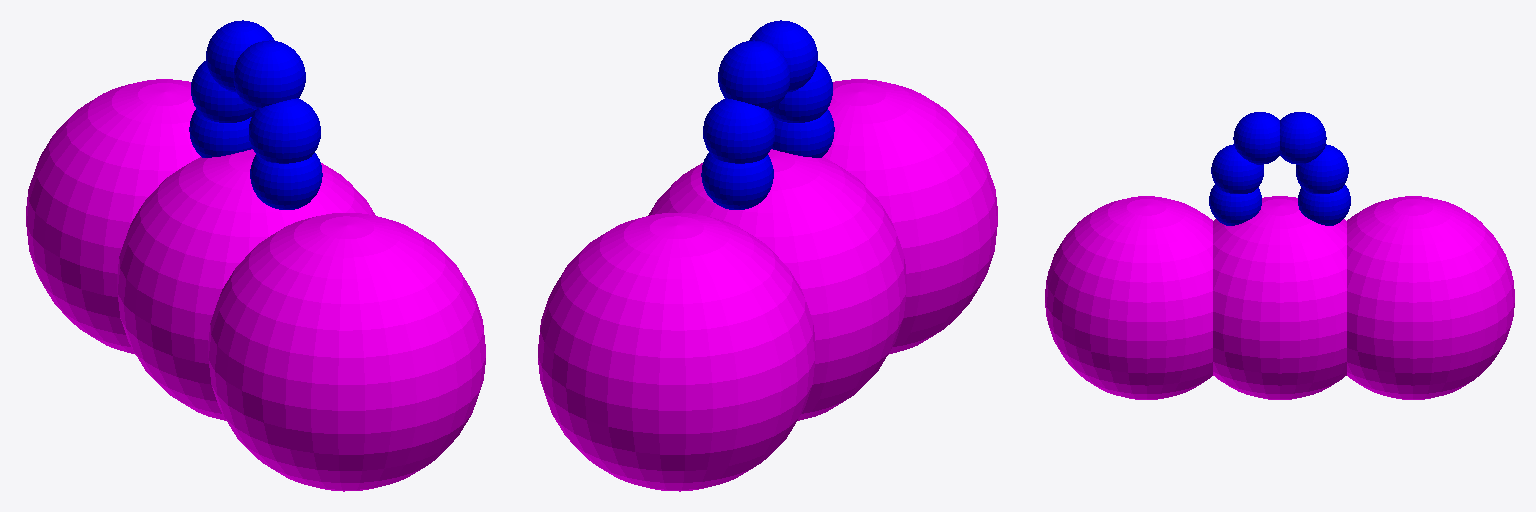
robot.urdf — panda_gripper:
<?xml version="1.0"?>
<robot name="panda_gripper">
  <link name="base_link_x"/>
  <joint name="dummy_x_translation_joint" type="prismatic">
    <parent link="base_link_x"/>
    <child link="base_link_y"/>
    <origin rpy="0 0 0" xyz="0 0 0"/>
    <axis xyz="1 0 0"/>
    <limit effort="300" lower="-10" upper="10" velocity="2.1750"/>
  </joint>

  <link name="base_link_y"/>

  <joint name="dummy_y_translation_joint" type="prismatic">
    <parent link="base_link_y"/>
    <child link="base_link_z"/>
    <origin rpy="0 0 0" xyz="0 0 0"/>
    <axis xyz="0 1 0"/>
    <limit effort="300" lower="-10" upper="10" velocity="2.1750"/>
  </joint>

  <link name="base_link_z"/>

  <joint name="dummy_z_translation_joint" type="prismatic">
    <parent link="base_link_z"/>
    <child link="base_link_roll"/>
    <origin rpy="0 0 0" xyz="0 0 0"/>
    <axis xyz="0 0 1"/>
    <limit effort="300" lower="-10" upper="10" velocity="2.1750"/>
  </joint>

  <link name="base_link_roll"/>

  <joint name="dummy_x_rotation_joint" type="revolute">
    <parent link="base_link_roll"/>
    <child link="base_link_pitch"/>
    <origin rpy="0 0 0" xyz="0 0 0"/>
    <axis xyz="1 0 0"/>
    <limit effort="100.95" velocity="108.48" lower="-6.283185" upper="6.283185"/>
  </joint>

  <link name="base_link_pitch"/>

  <joint name="dummy_y_rotation_joint" type="revolute">
    <parent link="base_link_pitch"/>
    <child link="base_link_yaw"/>
    <origin rpy="0 0 0" xyz="0 0 0"/>
    <axis xyz="0 1 0"/>
    <limit effort="100.95" velocity="108.48" lower="-6.283185" upper="6.283185"/>
  </joint>

  <link name="base_link_yaw"/>

  <joint name="dummy_z_rotation_joint" type="revolute">
    <parent link="base_link_yaw"/>
    <child link="panda_hand"/>
    <origin rpy="0 0 0" xyz="0 0 0"/>
    <axis xyz="0 0 1"/>
    <limit effort="100.95" velocity="108.48" lower="-6.283185" upper="6.283185"/>
  </joint>

  <link name="panda_hand">
    <visual>
      <geometry>
        <mesh filename="meshes/visual/hand.glb"/>
      </geometry>
    </visual>
    <collision>
      <origin rpy="1.570795 0 0" xyz="0 0 0.02617"/>
      <geometry>
        <box size="0.036 0.08 0.2"/>
      </geometry>
    </collision>
    <collision>
      <origin rpy="0 0 0" xyz="0 0 0.0003"/>
      <geometry>
        <cylinder radius="0.03" length="0.0077"/>
      </geometry>
    </collision>
    <inertial>
      <origin rpy="0 0 0" xyz="-0.01 0 0.03"/>
      <mass value="0.73"/>
      <inertia ixx="0.001" ixy="0" ixz="0" iyy="0.0025" iyz="0" izz="0.0017"/>
    </inertial>
  </link>
  <link name="panda_hand_tcp"/>
  <joint name="panda_hand_tcp_joint" type="fixed">
    <origin rpy="0 0 0" xyz="0 0 0.1034"/>
    <parent link="panda_hand"/>
    <child link="panda_hand_tcp"/>
  </joint>

  <!-- panda_hand balls -->
  <link name="panda_hand_collision_ball_0">
    <visual>
      <geometry>
        <sphere radius="0.0460"/>
      </geometry>
      <material name="pure">
      <color rgba="1.0 0.0 1.0 1.0"/>
    </material>
    </visual>
    <collision>
      <geometry>
      <sphere radius="0.0460"/>
      </geometry>
    </collision>
  </link>
  <joint name="panda_hand_collision_ball_0_joint" type="fixed">
    <parent link="panda_hand"/>
    <child link="panda_hand_collision_ball_0"/>
    <origin rpy="0 0 0" xyz="0.0 0.0 0.024"/>
  </joint>


    <link name="panda_hand_collision_ball_1">
    <visual>
      <geometry>
        <sphere radius="0.0460"/>
      </geometry>
      <material name="pure">
      <color rgba="1.0 0.0 1.0 1.0"/>
    </material>
    </visual>
    <collision>
      <geometry>
      <sphere radius="0.0460"/>
      </geometry>
    </collision>
  </link>
  <joint name="panda_hand_collision_ball_1_joint" type="fixed">
    <parent link="panda_hand"/>
    <child link="panda_hand_collision_ball_1"/>
    <origin rpy="0 0 0" xyz="0.0 -0.06 0.024"/>
  </joint>


    <link name="panda_hand_collision_ball_2">
    <visual>
      <geometry>
        <sphere radius="0.0460"/>
      </geometry>
      <material name="pure">
      <color rgba="1.0 0.0 1.0 1.0"/>
    </material>
    </visual>
    <collision>
      <geometry>
      <sphere radius="0.0460"/>
      </geometry>
    </collision>
  </link>
  <joint name="panda_hand_collision_ball_2_joint" type="fixed">
    <parent link="panda_hand"/>
    <child link="panda_hand_collision_ball_2"/>
    <origin rpy="0 0 0" xyz="0.0 0.06 0.024"/>
  </joint>
  <!--  -->



  <link name="panda_leftfinger">
    <visual>
      <geometry>
        <mesh filename="meshes/visual/finger.glb"/>
      </geometry>
    </visual>
    <collision>
      <origin rpy="0 0 0" xyz="0 18.5e-3 11e-3"/>
      <geometry>
        <box size="22e-3 15e-3 20e-3"/>
      </geometry>
    </collision>
    <collision>
      <origin rpy="0 0 0" xyz="0 6.8e-3 2.2e-3"/>
      <geometry>
        <box size="22e-3 8.8e-3 3.8e-3"/>
      </geometry>
    </collision>
    <collision>
      <origin rpy="0.5235987755982988 0 0" xyz="0 15.9e-3 28.35e-3"/>
      <geometry>
        <box size="17.5e-3 7e-3 23.5e-3"/>
      </geometry>
    </collision>
    <collision>
      <origin rpy="0 0 0" xyz="0 7.58e-3 45.25e-3"/>
      <geometry>
        <box size="17.5e-3 15.2e-3 18.5e-3"/>
      </geometry>
    </collision>
    <inertial>
      <origin rpy="0 0 0" xyz="0 0 0"/>
      <mass value="0.015"/>
      <inertia ixx="2.3749999999999997e-06" ixy="0" ixz="0" iyy="2.3749999999999997e-06"
               iyz="0" izz="7.5e-07"/>
    </inertial>
  </link>



  <!-- panda_leftfinger balls -->
  <link name="panda_leftfinger_collision_ball_0">
    <visual>
      <geometry>
        <sphere radius="0.0120"/>
      </geometry>
      <material name="blue">
      <color rgba="0.0 0.0 1.0 1.0"/>
    </material>
    </visual>
    <collision>
      <geometry>
      <sphere radius="0.0120"/>
      </geometry>
    </collision>
  </link>
  <joint name="panda_leftfinger_collision_ball_0_joint" type="fixed">
    <parent link="panda_leftfinger"/>
    <child link="panda_leftfinger_collision_ball_0"/>
    <origin rpy="0 0 0" xyz="0.0 0.02 0.014"/>
  </joint>


   <link name="panda_leftfinger_collision_ball_1">
    <visual>
      <geometry>
        <sphere radius="0.0120"/>
      </geometry>
      <material name="blue">
      <color rgba="0.0 0.0 1.0 1.0"/>
    </material>
    </visual>
    <collision>
      <geometry>
      <sphere radius="0.0120"/>
      </geometry>
    </collision>
  </link>
  <joint name="panda_leftfinger_collision_ball_1_joint" type="fixed">
    <parent link="panda_leftfinger"/>
    <child link="panda_leftfinger_collision_ball_1"/>
    <origin rpy="0 0 0" xyz="0.0 0.019 0.029"/>
  </joint>

  <link name="panda_leftfinger_collision_ball_2">
    <visual>
      <geometry>
        <sphere radius="0.0120"/>
      </geometry>
      <material name="blue">
      <color rgba="0.0 0.0 1.0 1.0"/>
    </material>
    </visual>
    <collision>
      <geometry>
      <sphere radius="0.0120"/>
      </geometry>
    </collision>
  </link>
  <joint name="panda_leftfinger_collision_ball_2_joint" type="fixed">
    <parent link="panda_leftfinger"/>
    <child link="panda_leftfinger_collision_ball_2"/>
    <origin rpy="0 0 0" xyz="0.0 0.009 0.045"/>
  </joint>
  <!--  -->

  <link name="panda_rightfinger">
    <visual>
      <origin rpy="0 0 3.141592653589793" xyz="0 0 0"/>
      <geometry>
        <mesh filename="meshes/visual/finger.glb"/>
      </geometry>
    </visual>
    <collision>
      <origin rpy="0 0 0" xyz="0 -18.5e-3 11e-3"/>
      <geometry>
        <box size="22e-3 15e-3 20e-3"/>
      </geometry>
    </collision>
    <collision>
      <origin rpy="0 0 0" xyz="0 -6.8e-3 2.2e-3"/>
      <geometry>
        <box size="22e-3 8.8e-3 3.8e-3"/>
      </geometry>
    </collision>
    <collision>
      <origin rpy="-0.5235987755982988 0 0" xyz="0 -15.9e-3 28.35e-3"/>
      <geometry>
        <box size="17.5e-3 7e-3 23.5e-3"/>
      </geometry>
    </collision>
    <collision>
      <origin rpy="0 0 0" xyz="0 -7.58e-3 45.25e-3"/>
      <geometry>
        <box size="17.5e-3 15.2e-3 18.5e-3"/>
      </geometry>
    </collision>
    <inertial>
      <origin rpy="0 0 0" xyz="0 0 0"/>
      <mass value="0.015"/>
      <inertia ixx="2.3749999999999997e-06" ixy="0" ixz="0" iyy="2.3749999999999997e-06"
               iyz="0" izz="7.5e-07"/>
    </inertial>
  </link>



  <!-- panda_rightfinger balls -->
  <link name="panda_rightfinger_collision_ball_0">
    <visual>
      <geometry>
        <sphere radius="0.0120"/>
      </geometry>
      <material name="blue">
      <color rgba="0.0 0.0 1.0 1.0"/>
    </material>
    </visual>
    <collision>
      <geometry>
      <sphere radius="0.0120"/>
      </geometry>
    </collision>
  </link>
  <joint name="panda_rightfinger_collision_ball_0_joint" type="fixed">
    <parent link="panda_rightfinger"/>
    <child link="panda_rightfinger_collision_ball_0"/>
    <origin rpy="0 0 0" xyz="0.0 -0.02 0.014"/>
  </joint>


   <link name="panda_rightfinger_collision_ball_1">
    <visual>
      <geometry>
        <sphere radius="0.0120"/>
      </geometry>
      <material name="blue">
      <color rgba="0.0 0.0 1.0 1.0"/>
    </material>
    </visual>
    <collision>
      <geometry>
      <sphere radius="0.0120"/>
      </geometry>
    </collision>
  </link>
  <joint name="panda_rightfinger_collision_ball_1_joint" type="fixed">
    <parent link="panda_rightfinger"/>
    <child link="panda_rightfinger_collision_ball_1"/>
    <origin rpy="0 0 0" xyz="0.0 -0.019 0.029"/>
  </joint>

  <link name="panda_rightfinger_collision_ball_2">
    <visual>
      <geometry>
        <sphere radius="0.0120"/>
      </geometry>
      <material name="blue">
      <color rgba="0.0 0.0 1.0 1.0"/>
    </material>
    </visual>
    <collision>
      <geometry>
      <sphere radius="0.0120"/>
      </geometry>
    </collision>
  </link>
  <joint name="panda_rightfinger_collision_ball_2_joint" type="fixed">
    <parent link="panda_rightfinger"/>
    <child link="panda_rightfinger_collision_ball_2"/>
    <origin rpy="0 0 0" xyz="0.0 -0.009 0.045"/>
  </joint>
  <!--  -->



  <joint name="panda_finger_joint1" type="prismatic">
    <parent link="panda_hand"/>
    <child link="panda_leftfinger"/>
    <origin rpy="0 0 0" xyz="0 0 0.0584"/>
    <axis xyz="0 1 0"/>
    <limit effort="100" lower="0.0" upper="0.04" velocity="0.2"/>
    <dynamics damping="0.3"/>
  </joint>
  <joint name="panda_finger_joint2" type="prismatic">
    <parent link="panda_hand"/>
    <child link="panda_rightfinger"/>
    <origin rpy="0 0 0" xyz="0 0 0.0584"/>
    <axis xyz="0 -1 0"/>
    <limit effort="100" lower="0.0" upper="0.04" velocity="0.2"/>
    <mimic joint="panda_finger_joint1" multiplier="1" offset="0"/>
    <dynamics damping="0.3"/>
  </joint>
</robot>

--- What the picture shows (computed from the rendered views, not written in the file) ---
3 views of the same robot in one strip: view 1: azimuth 30°, elevation 25°; view 2: azimuth 150°, elevation 25°; view 3: azimuth 270°, elevation 25° (orthographic).
Robot: panda_gripper — 19 links, 18 joints (3 revolute, 5 prismatic, 10 fixed); root link base_link_x; default pose: all joints at 0.
Links seen in each view (by area): view 1: panda_hand_collision_ball_1, panda_hand_collision_ball_0, panda_hand_collision_ball_2, panda_rightfinger_collision_ball_2, panda_rightfinger_collision_ball_1, panda_rightfinger_collision_ball_0, panda_leftfinger_collision_ball_2, panda_leftfinger_collision_ball_1, panda_leftfinger_collision_ball_0; view 2: panda_hand_collision_ball_2, panda_hand_collision_ball_0, panda_hand_collision_ball_1, panda_leftfinger_collision_ball_2, panda_leftfinger_collision_ball_1, panda_leftfinger_collision_ball_0, panda_rightfinger_collision_ball_2, panda_rightfinger_collision_ball_1, panda_rightfinger_collision_ball_0; view 3: panda_hand_collision_ball_1, panda_hand_collision_ball_2, panda_hand_collision_ball_0, panda_leftfinger_collision_ball_2, panda_rightfinger_collision_ball_2, panda_leftfinger_collision_ball_1, panda_rightfinger_collision_ball_1, panda_leftfinger_collision_ball_0, panda_rightfinger_collision_ball_0.
Link boxes in pixels (left/top/right/bottom): panda_hand_collision_ball_1: left=208, top=213, right=485, bottom=491; panda_hand_collision_ball_0: left=117, top=149, right=375, bottom=420; panda_hand_collision_ball_2: left=26, top=79, right=200, bottom=354; panda_rightfinger_collision_ball_2: left=233, top=40, right=305, bottom=109; panda_rightfinger_collision_ball_1: left=249, top=98, right=320, bottom=163; panda_rightfinger_collision_ball_0: left=250, top=153, right=322, bottom=209; panda_leftfinger_collision_ball_2: left=206, top=20, right=274, bottom=92; panda_leftfinger_collision_ball_1: left=191, top=61, right=254, bottom=122; panda_leftfinger_collision_ball_0: left=189, top=109, right=252, bottom=157; panda_hand_collision_ball_2: left=538, top=213, right=815, bottom=491; panda_hand_collision_ball_0: left=648, top=149, right=906, bottom=420; panda_hand_collision_ball_1: left=823, top=79, right=997, bottom=354; panda_leftfinger_collision_ball_2: left=718, top=40, right=790, bottom=109; panda_leftfinger_collision_ball_1: left=703, top=98, right=774, bottom=163; panda_leftfinger_collision_ball_0: left=701, top=153, right=773, bottom=209; panda_rightfinger_collision_ball_2: left=749, top=20, right=817, bottom=92; panda_rightfinger_collision_ball_1: left=769, top=61, right=832, bottom=122; panda_rightfinger_collision_ball_0: left=771, top=109, right=834, bottom=157; panda_hand_collision_ball_1: left=1045, top=196, right=1212, bottom=399; panda_hand_collision_ball_2: left=1347, top=196, right=1514, bottom=399; panda_hand_collision_ball_0: left=1213, top=196, right=1346, bottom=399; panda_leftfinger_collision_ball_2: left=1280, top=112, right=1326, bottom=164; panda_rightfinger_collision_ball_2: left=1233, top=112, right=1279, bottom=164; panda_leftfinger_collision_ball_1: left=1296, top=144, right=1348, bottom=193; panda_rightfinger_collision_ball_1: left=1211, top=144, right=1263, bottom=193; panda_leftfinger_collision_ball_0: left=1298, top=185, right=1350, bottom=225; panda_rightfinger_collision_ball_0: left=1209, top=185, right=1261, bottom=225.
Bounding box of the posed robot: 0.092 × 0.212 × 0.1374 m (x, y, z).
0 mesh visuals loaded from 2 distinct referenced files (none loaded); not drawn: 3 (reference not matched to a file when rendering).